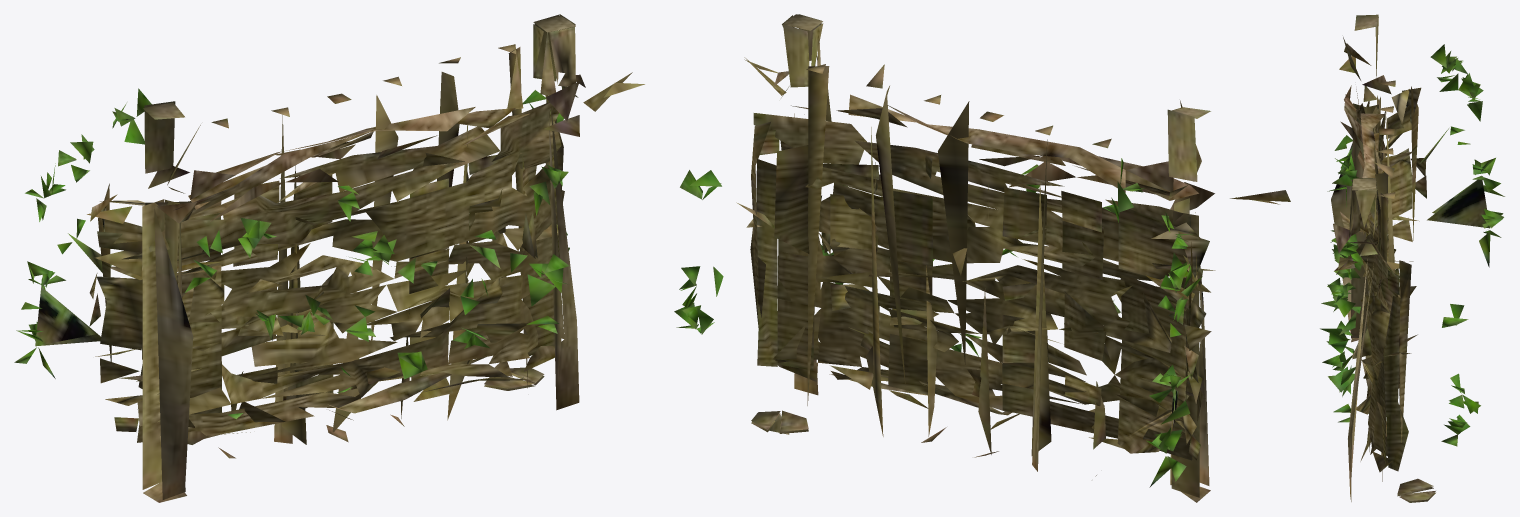
The model's file is hd_laid2_far.glb.
The picture shows the model from 3 angles, left to right: view 1: azimuth 30°, elevation 25°; view 2: azimuth 150°, elevation 25°; view 3: azimuth 270°, elevation 25°; orthographic projection. The views are drawn at different scales.
Visible parts, largest first — view 1: hd_laid2; view 2: hd_laid2; view 3: hd_laid2.
Part boxes in pixels (x1,y1,x2,y2): hd_laid2: [14, 14, 644, 502]; hd_laid2: [674, 14, 1290, 502]; hd_laid2: [1320, 14, 1504, 502].
Size of the model in its own units: 2 by 1.37 by 0.7106.
Materials: 1 (1 with a texture image).
